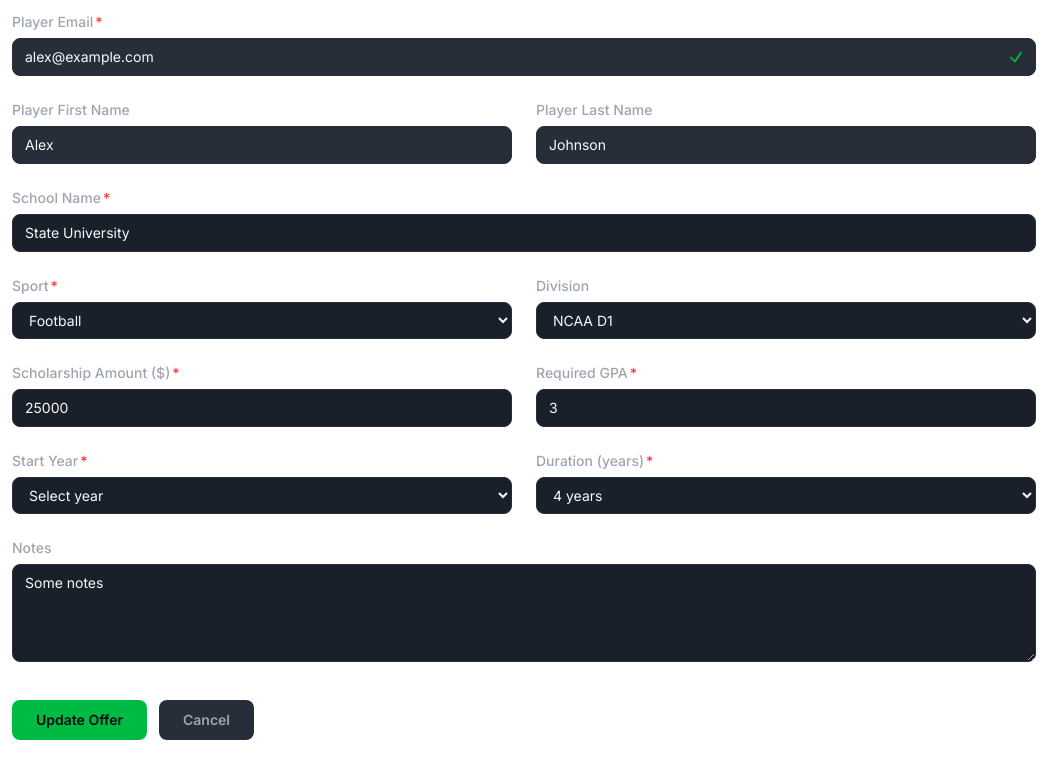
Test: ScholarshipForm — validation › shows error when scholarship amount is negative
The width and height of the screenshot is (1048, 780).
Replace the text in the number field labelled "Scholarship Amount ($)*" with "-100" at coordinates (262, 408), box [12,389,512,427]
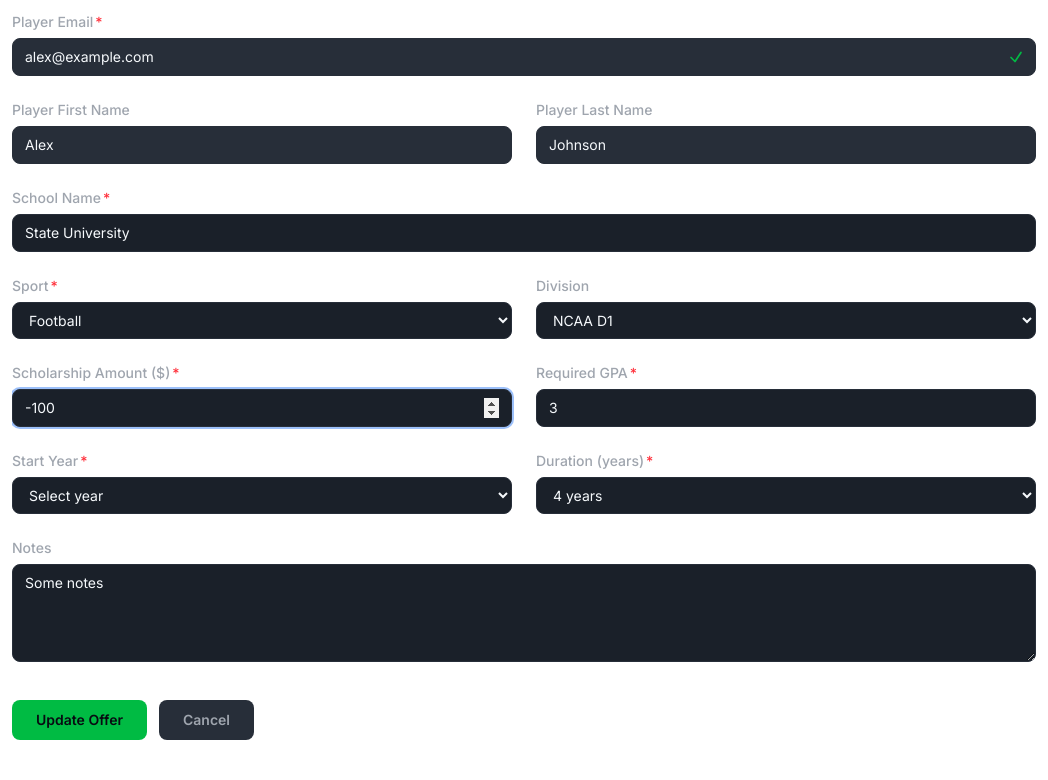
Click the button "Update Offer" at coordinates (80, 720), box [12,700,147,740]
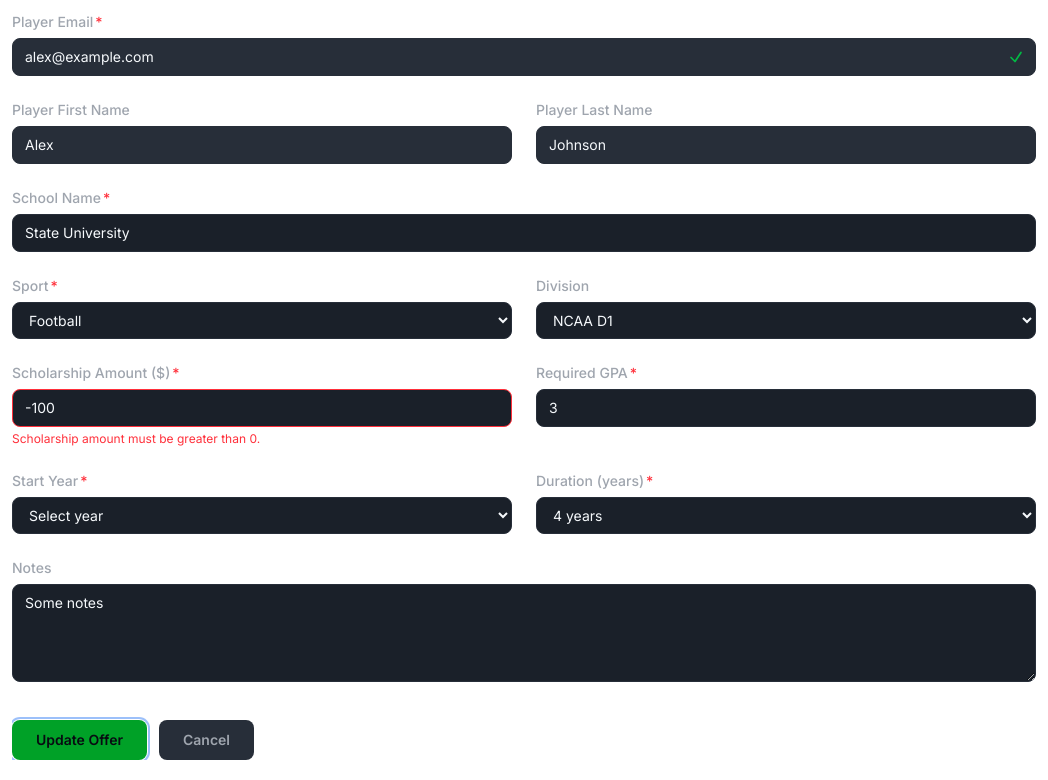
Result: the text "Scholarship amount must be greater than 0." is shown at [12,431,260,446]
